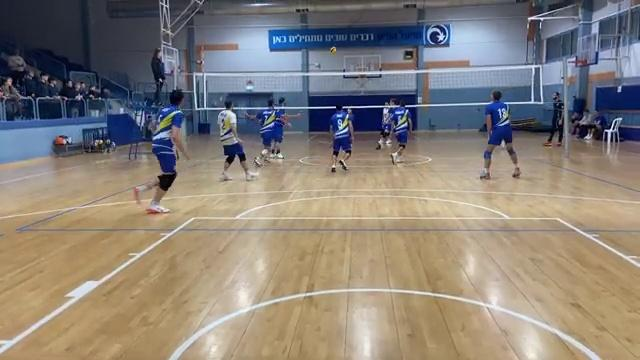ball: (329, 44, 338, 56)
